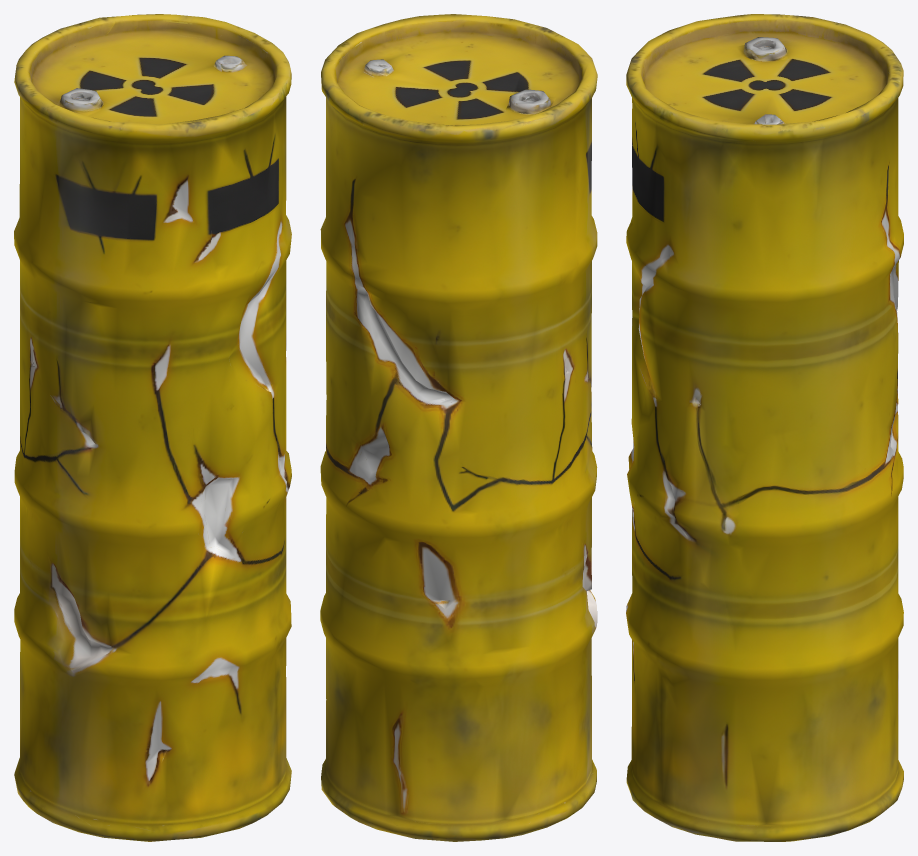
The model's file is Meshy_AI_Radiant_Hazard_0131125523_texture.fbx.
3 views of the same model, side by side, from view 1: azimuth 30°, elevation 25°; view 2: azimuth 150°, elevation 25°; view 3: azimuth 270°, elevation 25° (orthographic).
Visible parts, largest first — view 1: Mesh_0; view 2: Mesh_0; view 3: Mesh_0.
Boxes of the visible parts, x1,y1,x2,y2 form: Mesh_0: (14,14,291,841); Mesh_0: (320,14,597,841); Mesh_0: (626,14,903,841).
Bounding box in the file's own units: 70.49 × 200 × 70.38.
Materials: 1 (1 with a texture image).
